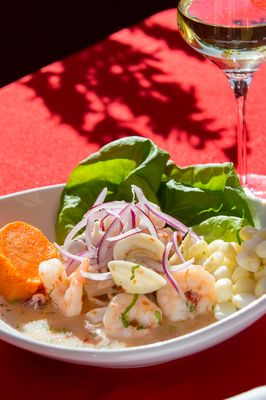sushi: (0, 166, 266, 369)
